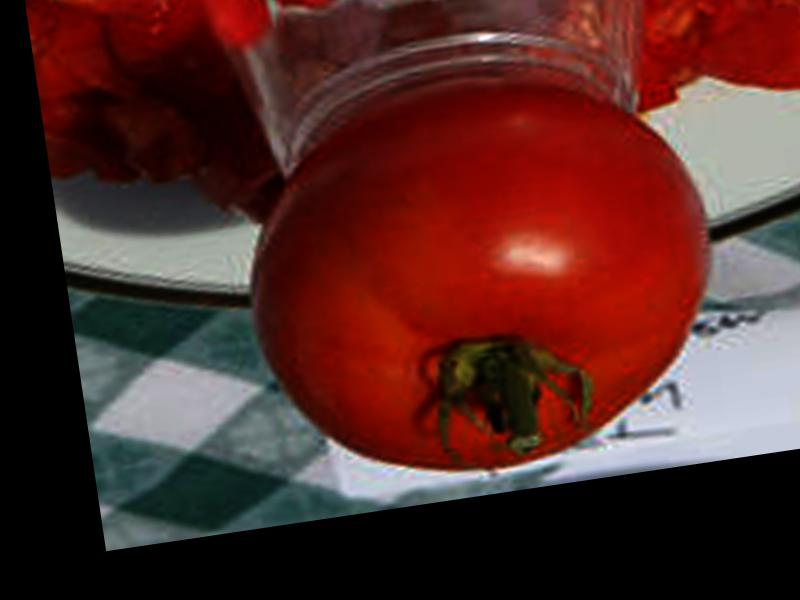Tomato: (223, 56, 742, 504)
